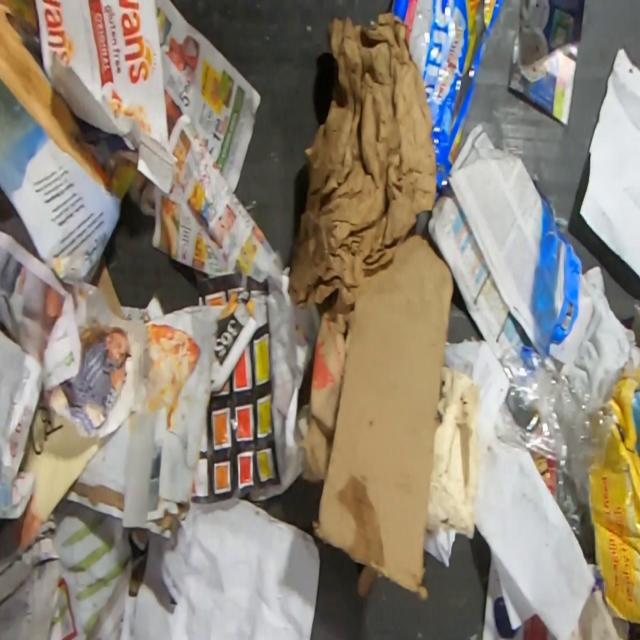cardboard: (310, 232, 454, 599), (587, 362, 640, 623), (298, 291, 355, 483), (426, 362, 480, 538), (357, 564, 384, 597)
rigid_plastic: (498, 178, 613, 565)
soft_plastic: (389, 0, 505, 208)
